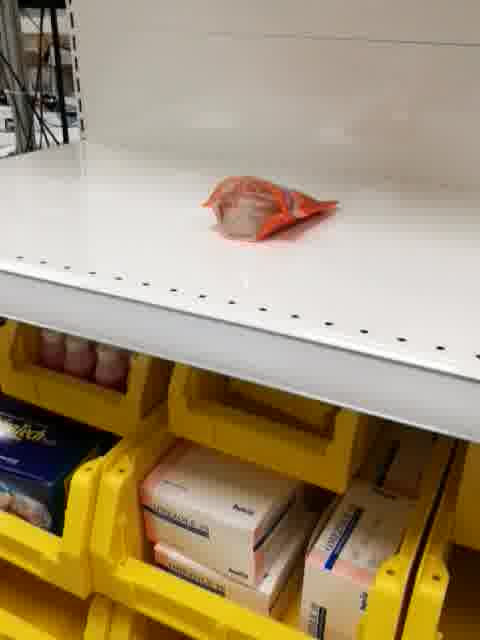whitechia: (202, 175, 343, 243)
